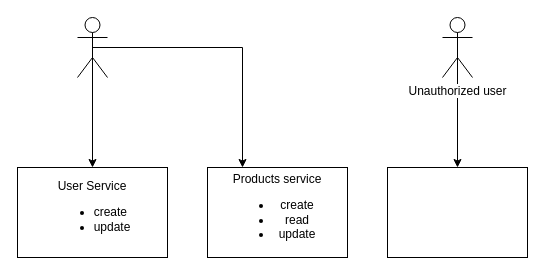
Some shapes in this 545 by 275 pixel diagram are drawn without their labels. The centre of each missing label's shape, as x and y in pixels:
"Backend user" belongs at pixel 92 47.
"Products service read" belongs at pixel 457 212.
